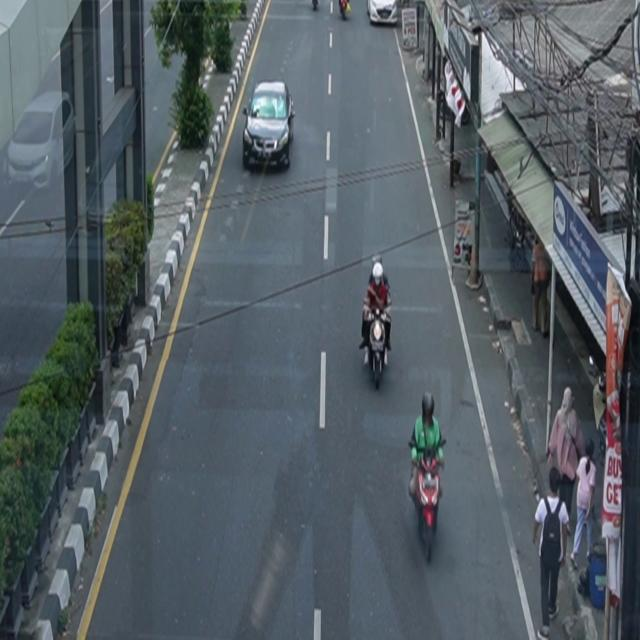car: (4, 90, 77, 192), (243, 80, 296, 172), (367, 1, 398, 26)
